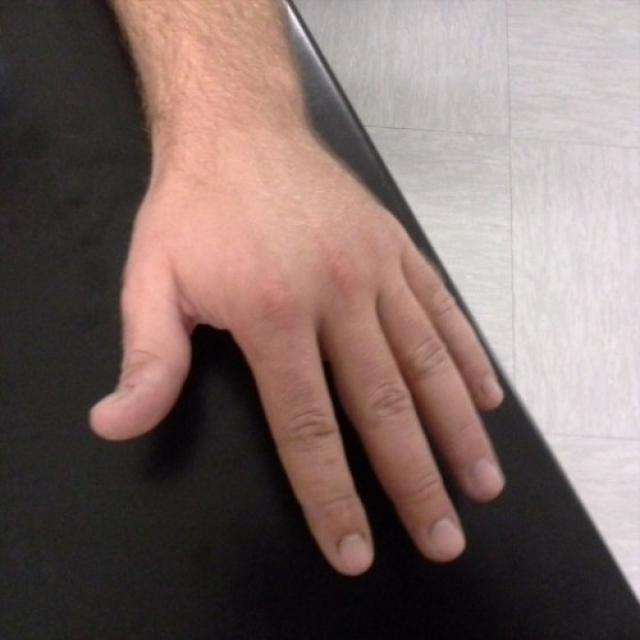paper: (90, 158, 510, 577)
